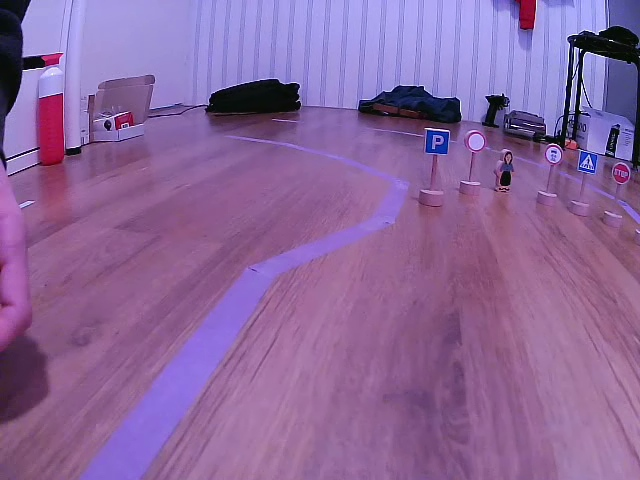fietspad: (544, 142, 562, 169)
mens: (495, 148, 516, 194)
parkeerbord: (422, 126, 449, 157)
stopbord: (611, 160, 629, 186)
wegdicht: (465, 128, 484, 153)
zebrapad: (577, 147, 596, 174)
